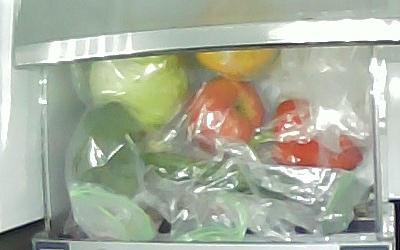apple_vinyl: (184, 76, 264, 157)
broccoli_vinyl: (73, 101, 172, 200)
cucumber_vinyl: (140, 152, 301, 200)
grapefruit_vinyl: (195, 47, 281, 76)
lettuce_vinyl: (88, 51, 188, 124)
paprika_vinyl: (250, 99, 363, 171)
